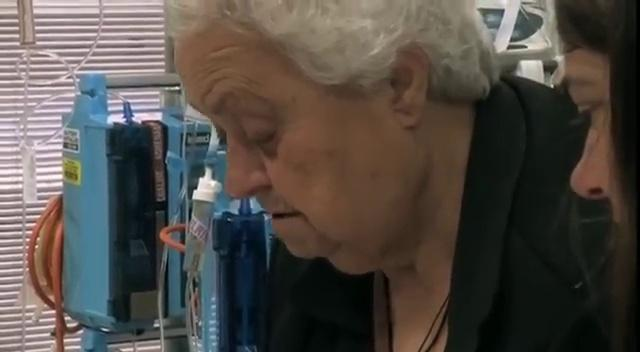others: (166, 0, 616, 350)
